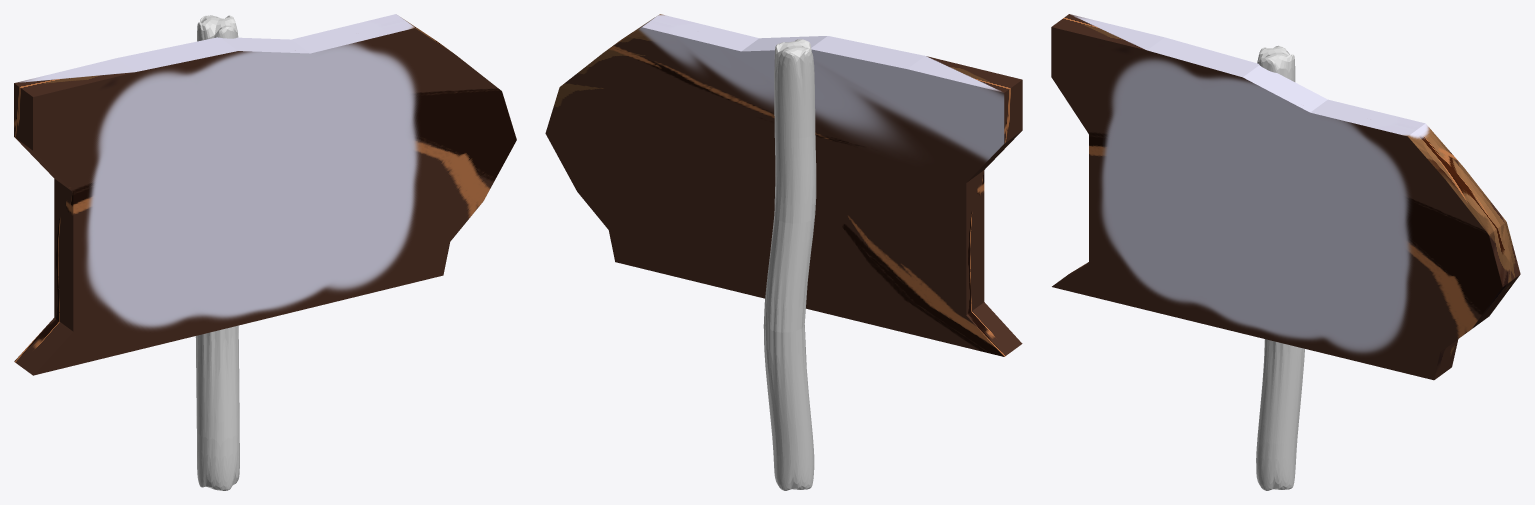
The model's file is sign.fbx.
The picture shows the model from 3 angles, left to right: view 1: azimuth 30°, elevation 25°; view 2: azimuth 150°, elevation 25°; view 3: azimuth 330°, elevation 25°; orthographic projection. The views are drawn at different scales.
Visible parts, largest first — view 1: Cube, Cylinder; view 2: Cube, Cylinder; view 3: Cube, Cylinder.
Part boxes in pixels (x1,y1,x2,y2): Cube: [14, 14, 516, 375]; Cylinder: [195, 15, 239, 490]; Cube: [545, 14, 1022, 356]; Cylinder: [763, 39, 816, 490]; Cube: [1051, 14, 1520, 380]; Cylinder: [1256, 45, 1304, 490].
Size of the model in its own units: 251 by 230 by 39.94.
2 materials, 1 textured.
